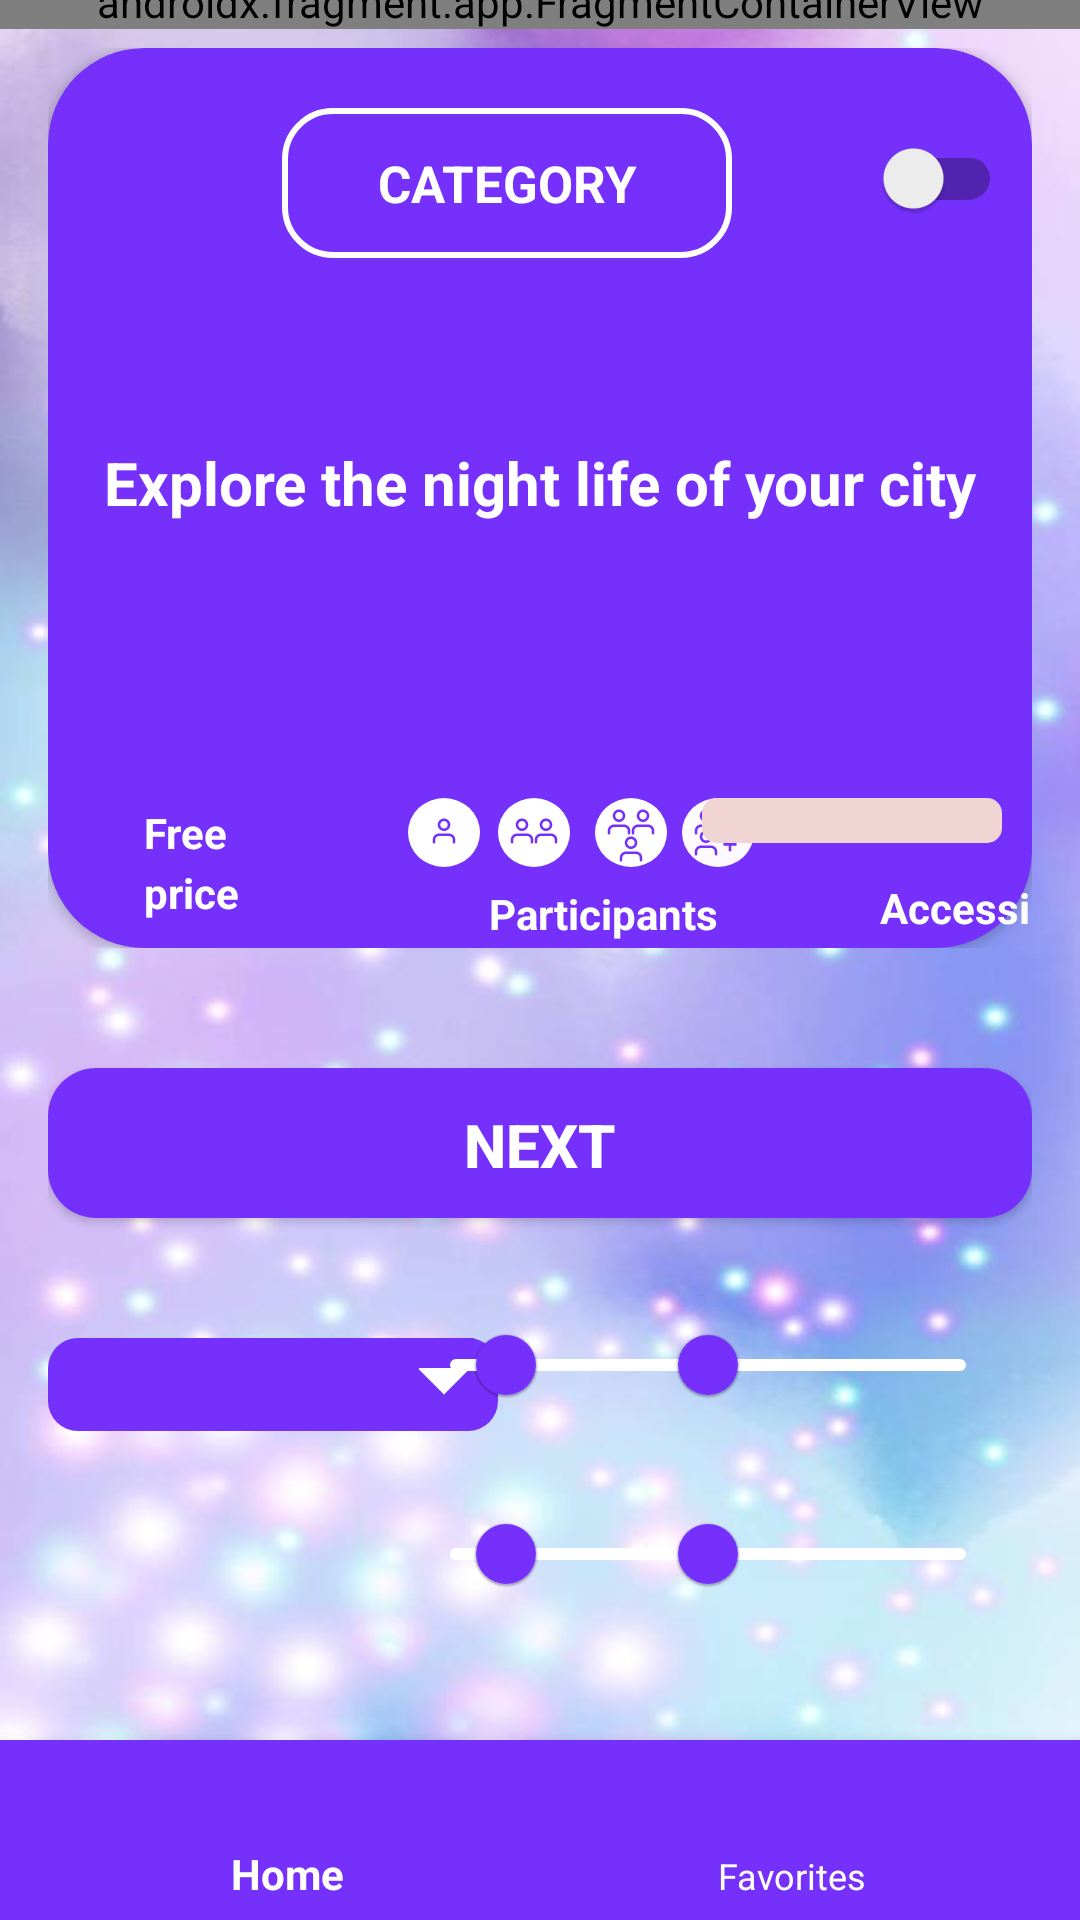

Icon click points for this 1080px x 1920px phone screenshot, format point (x, y):
one user: point (444, 832)
three persons: point (631, 832)
two users: point (534, 832)
